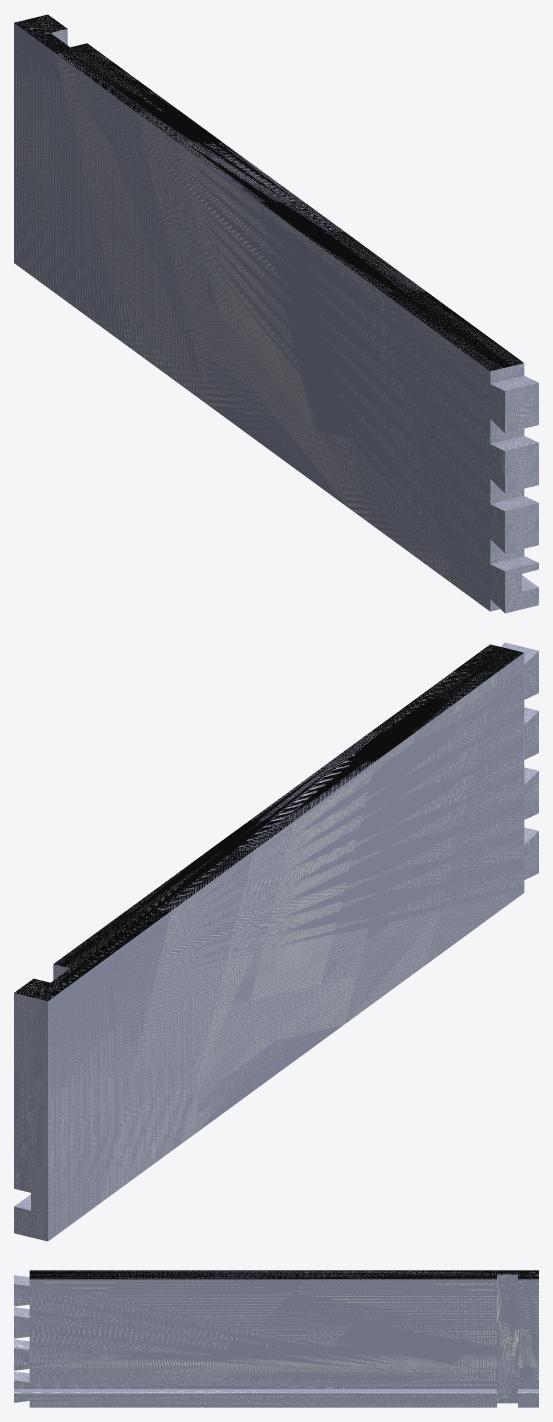
The model's file is original-2.obj.
3 views of the same model, one above another, from view 1: azimuth 30°, elevation 25°; view 2: azimuth 150°, elevation 25°; view 3: azimuth 270°, elevation 25° (orthographic). The views are drawn at different scales.
Parts seen in each view (by area): view 1: drawer_side1/drawer_side/mesh1/mesh1-geometry#mesh1-geometry; view 2: drawer_side1/drawer_side/mesh1/mesh1-geometry#mesh1-geometry; view 3: drawer_side1/drawer_side/mesh1/mesh1-geometry#mesh1-geometry.
Boxes of the visible parts, x1,y1,x2,y2 form: drawer_side1/drawer_side/mesh1/mesh1-geometry#mesh1-geometry: [14, 14, 538, 613]; drawer_side1/drawer_side/mesh1/mesh1-geometry#mesh1-geometry: [14, 642, 538, 1241]; drawer_side1/drawer_side/mesh1/mesh1-geometry#mesh1-geometry: [14, 1270, 538, 1407].
Bounding box in the file's own units: 0.0152 × 0.1028 × 0.3806.
